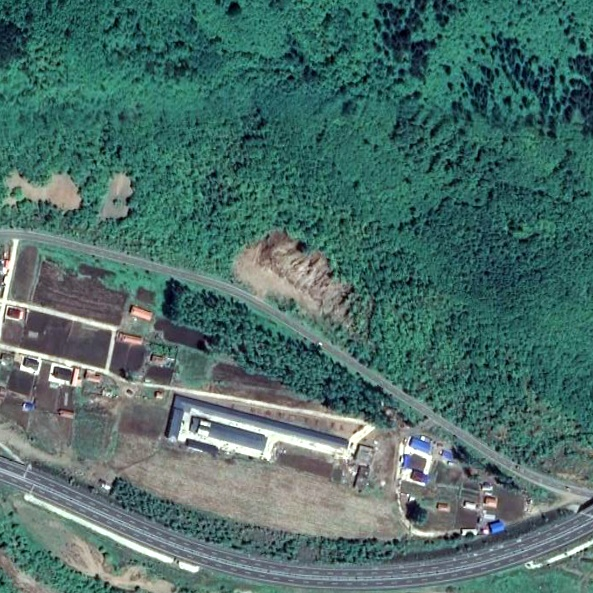slope: (235, 226, 359, 333)
